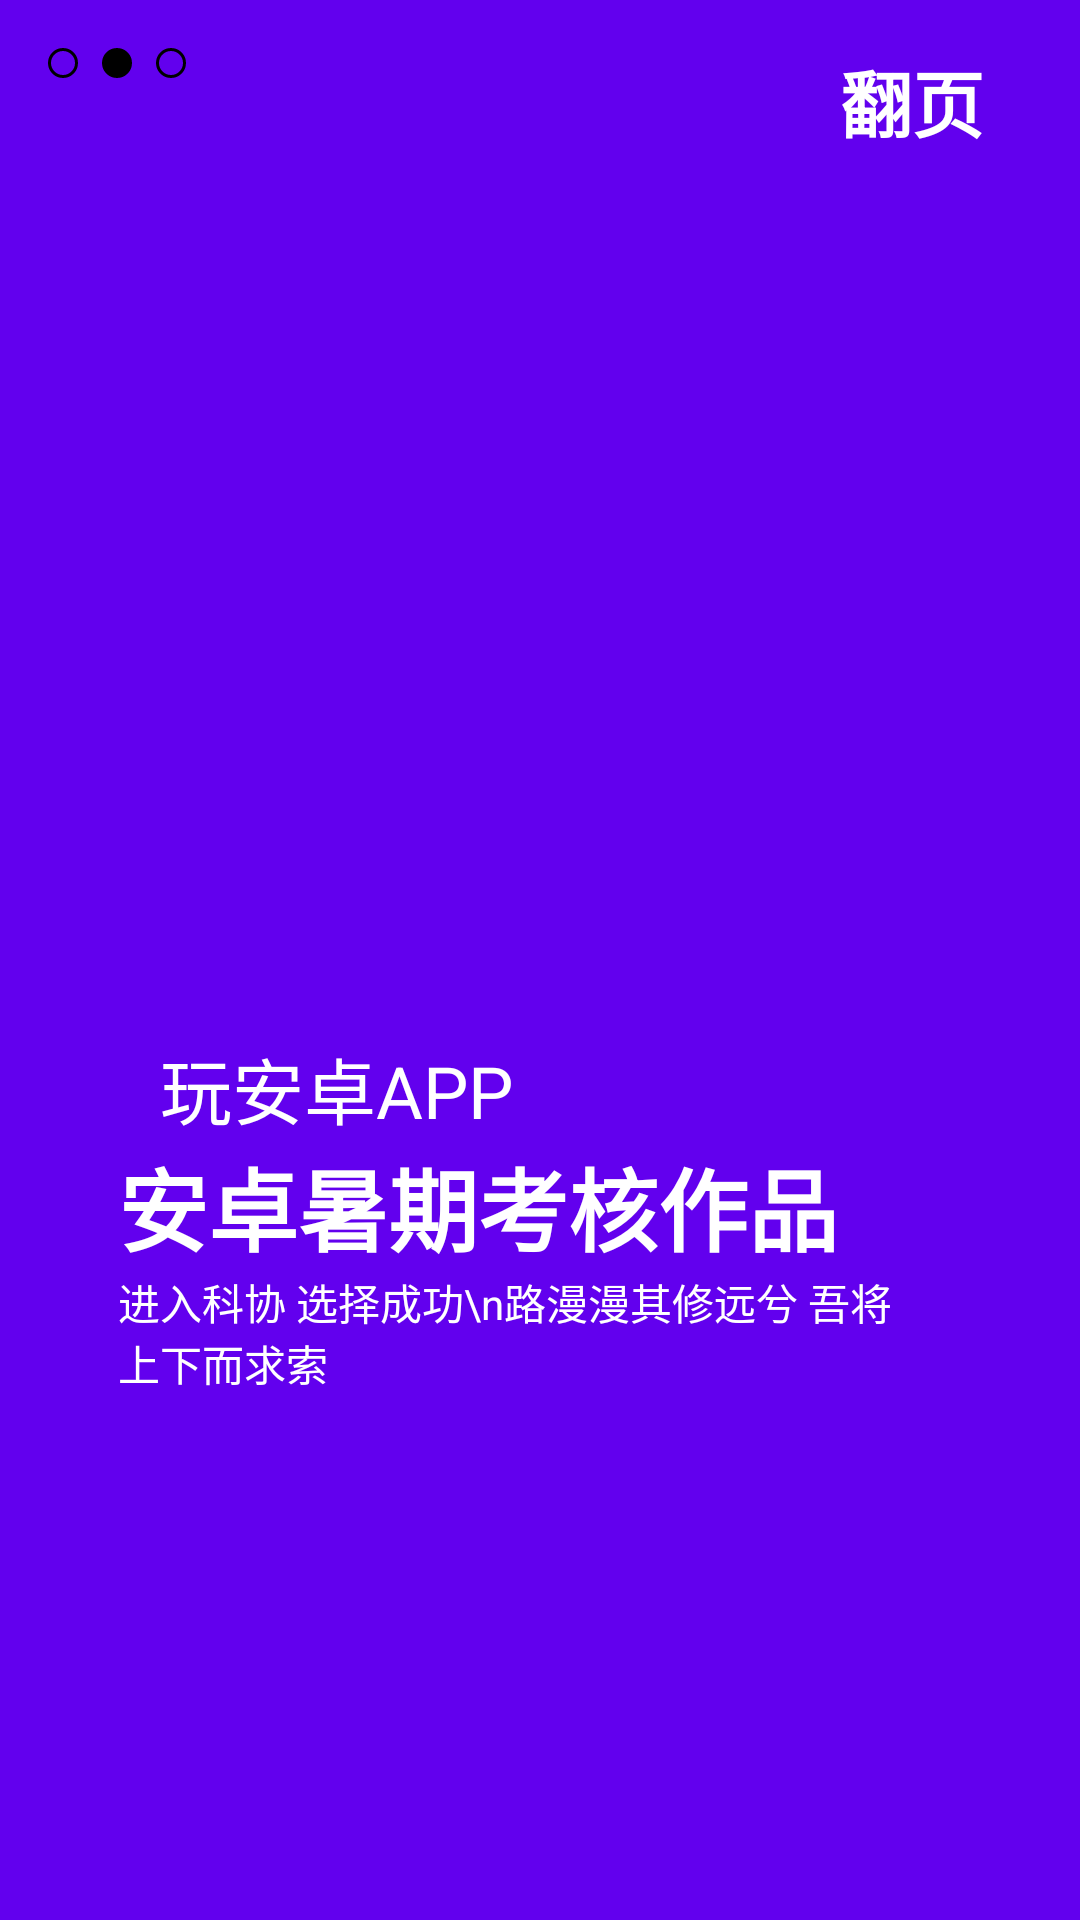

Icons on this 1080x1920 Android screen, each with its box as [x1,y1,x2,y2]:
circle: [102,48,132,78]
circle blank: [48,48,78,78], [156,48,186,78]
